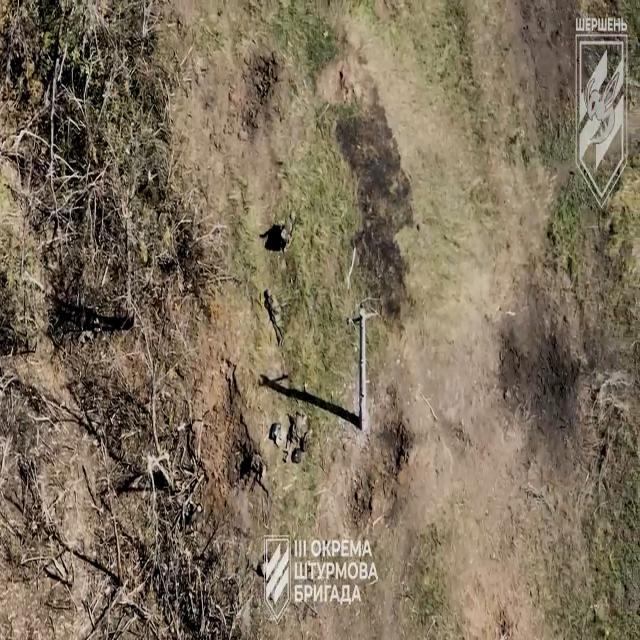MIL_Pax: (284, 411, 311, 461), (270, 422, 282, 444)
